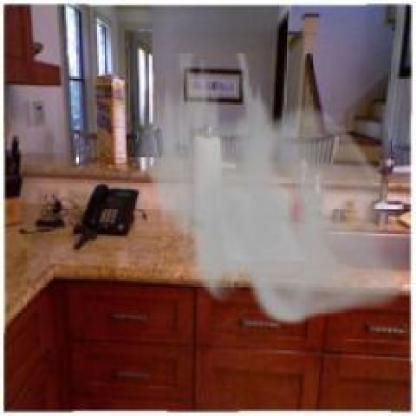Smoke: (134, 49, 402, 325)
